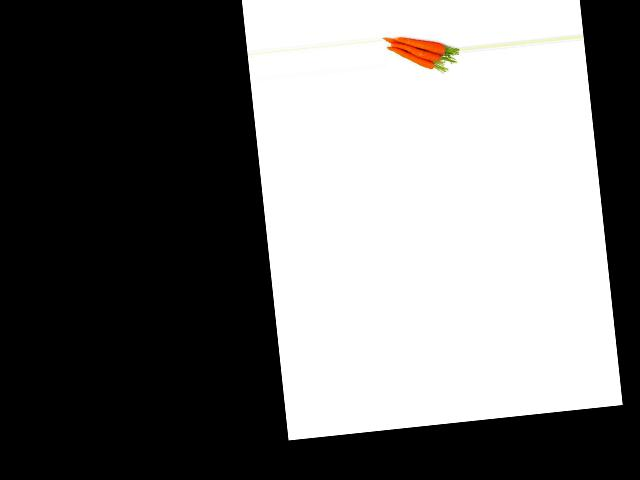carrot: (394, 30, 450, 58)
